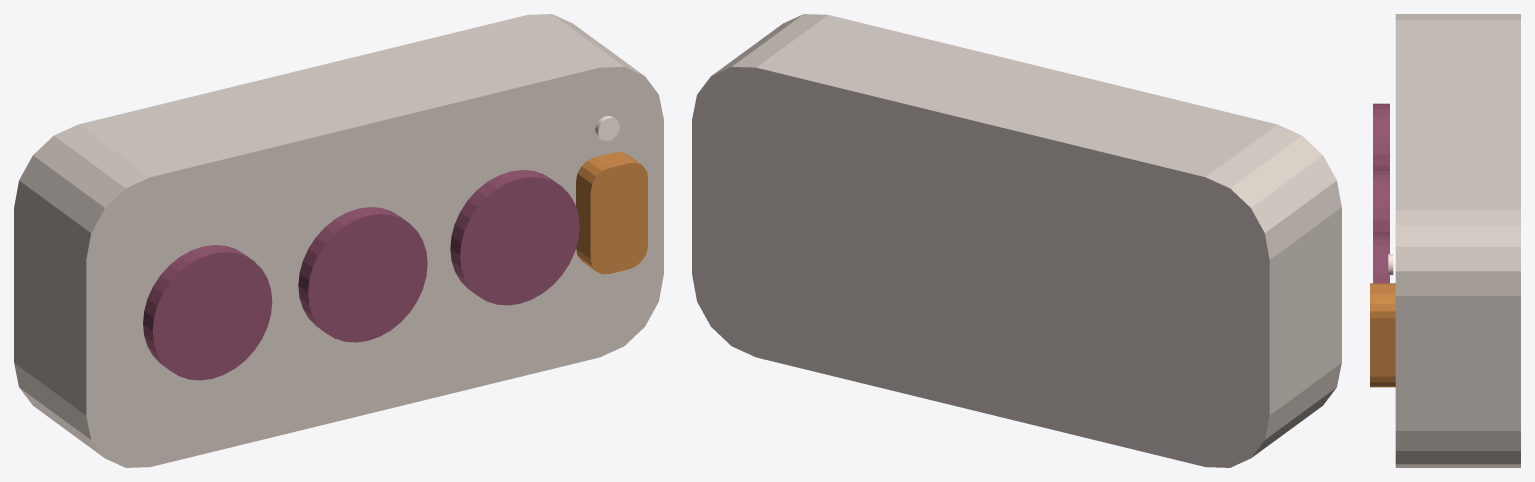
File: powerstrip.glb
The picture shows the model from 3 angles, left to right: view 1: azimuth 30°, elevation 25°; view 2: azimuth 150°, elevation 25°; view 3: azimuth 270°, elevation 25°; orthographic projection. The views are drawn at different scales.
Parts seen in each view (by area): view 1: case, socket-0.52, socket-0.06, socket0.39, switch; view 2: case; view 3: case, switch, socket-0.52, socket-0.06, socket0.39.
Boxes of the visible parts, left/top/right/bottom form: case: left=14, top=14, right=663, bottom=467; socket-0.52: left=143, top=245, right=272, bottom=380; socket-0.06: left=298, top=207, right=427, bottom=342; socket0.39: left=450, top=170, right=579, bottom=305; switch: left=576, top=152, right=647, bottom=274; case: left=692, top=14, right=1341, bottom=467; case: left=1395, top=14, right=1520, bottom=467; switch: left=1370, top=283, right=1395, bottom=387; socket-0.52: left=1373, top=103, right=1389, bottom=169; socket-0.06: left=1373, top=169, right=1389, bottom=233; socket0.39: left=1373, top=234, right=1389, bottom=283.
Size of the model in its own units: 1.71 by 0.82 by 0.4455.
